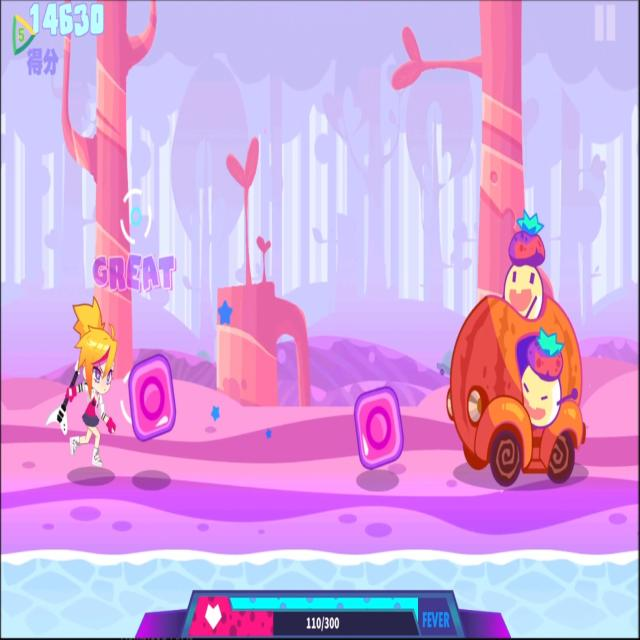cheboss: (441, 201, 591, 505)
kuai: (351, 372, 406, 473), (126, 347, 177, 450)
